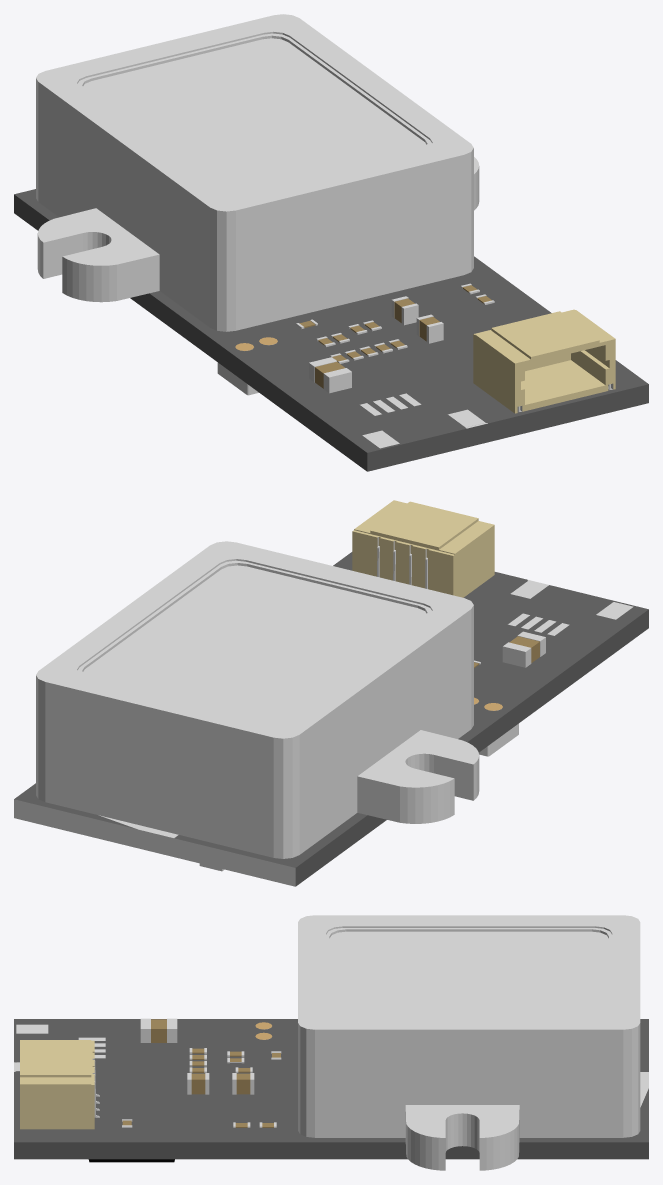
The picture shows the model from 3 angles, top to bottom: view 1: azimuth 30°, elevation 25°; view 2: azimuth 150°, elevation 25°; view 3: azimuth 270°, elevation 25°; orthographic projection. The views are drawn at different scales.
Visible parts, largest first — view 1: _1792; view 2: _1792; view 3: _1792.
Boxes of the visible parts, box(x1,y1,x2,y2) form: _1792: box(14, 14, 648, 471); _1792: box(14, 500, 648, 886); _1792: box(14, 915, 648, 1170).
Size of the model in its own units: 25.07 by 37.31 by 10.29.
